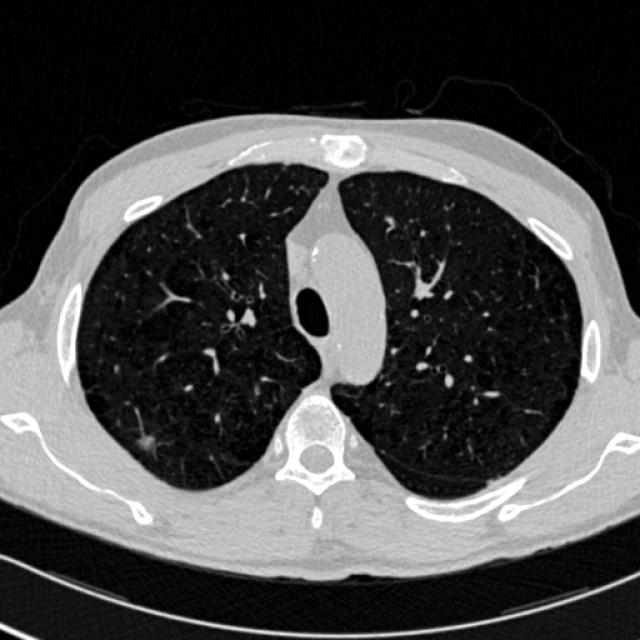nodule: (130, 426, 162, 459)
